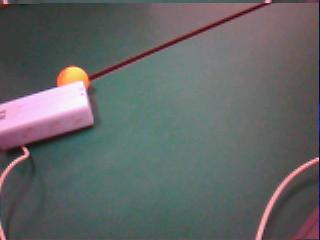oball: (56, 66, 89, 91)
